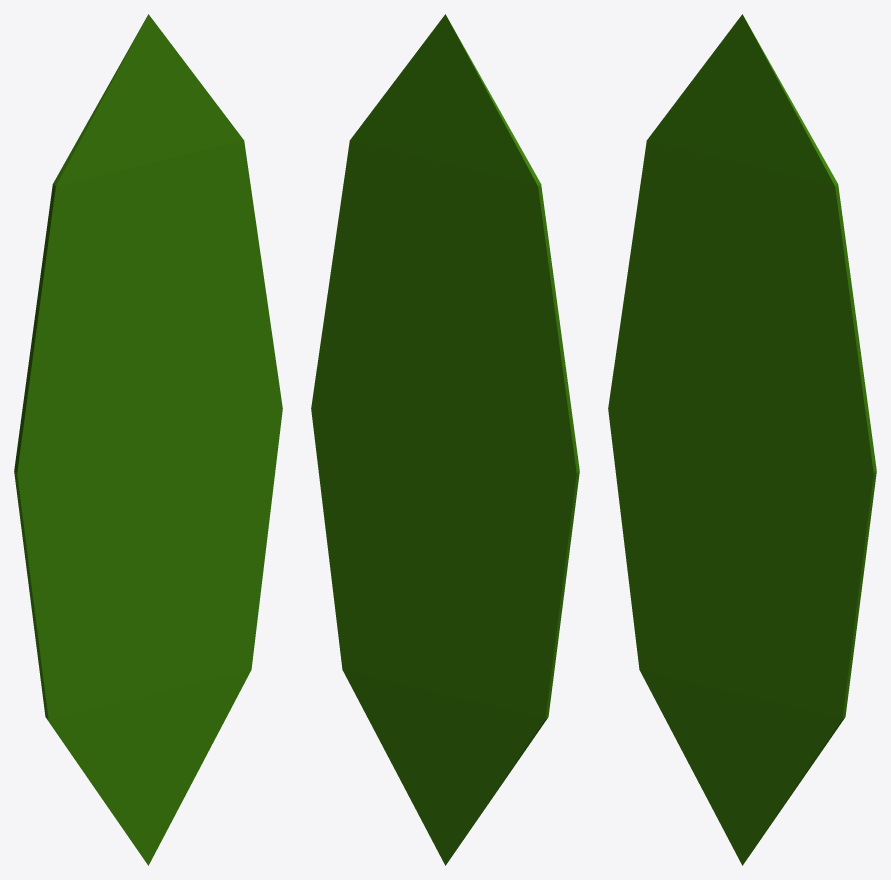
The model's file is Leave_e_03.fbx.
3 renders of one model, left to right at view 1: azimuth 30°, elevation 25°; view 2: azimuth 150°, elevation 25°; view 3: azimuth 330°, elevation 25°, orthographic.
Visible parts, largest first — view 1: Leave_e_03_LOD0; view 2: Leave_e_03_LOD0; view 3: Leave_e_03_LOD0.
Part boxes in pixels (x1=…): Leave_e_03_LOD0: x1=14, y1=14, x2=282, y2=865; Leave_e_03_LOD0: x1=311, y1=14, x2=579, y2=865; Leave_e_03_LOD0: x1=608, y1=14, x2=876, y2=865.
Size of what is drawn, in the model's own units: 1.29 by 3.95 by 0.0263.
